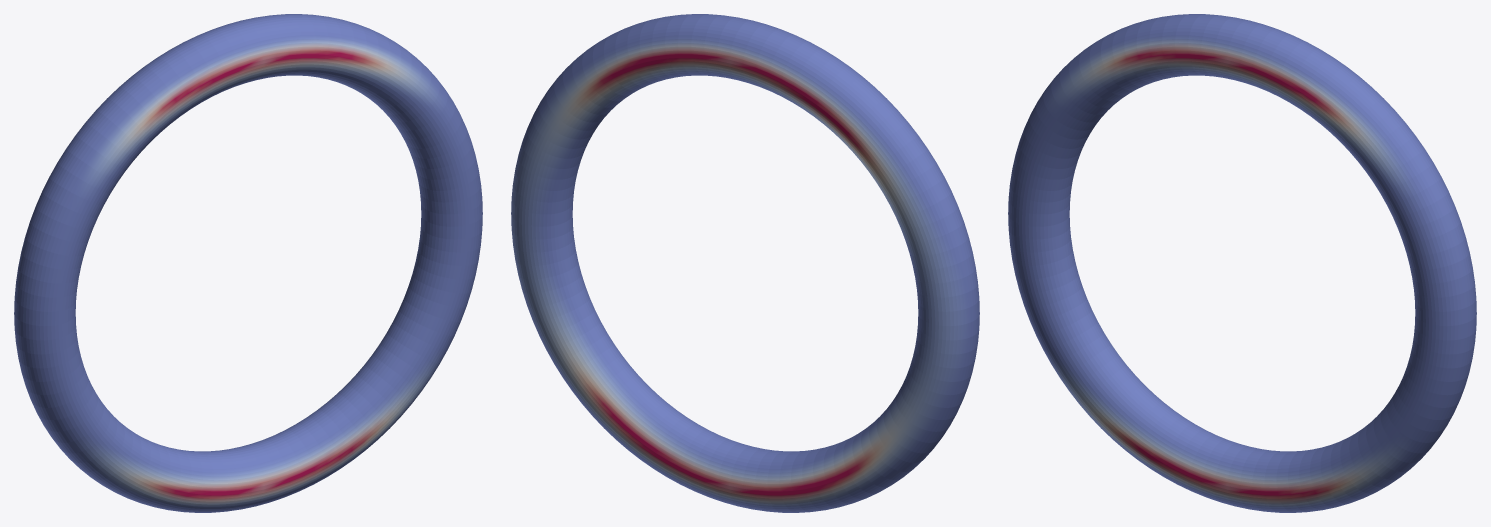
3 renders of one model, left to right at view 1: azimuth 30°, elevation 25°; view 2: azimuth 150°, elevation 25°; view 3: azimuth 330°, elevation 25°, orthographic.
Parts seen in each view (by area): view 1: world; view 2: world; view 3: world.
Boxes of the visible parts, box(x1,y1,x2,y2) form: world: box(14, 14, 482, 512); world: box(511, 14, 979, 512); world: box(1008, 14, 1476, 512).
Size of the model in its own units: 21.87 by 21.87 by 2.53.
